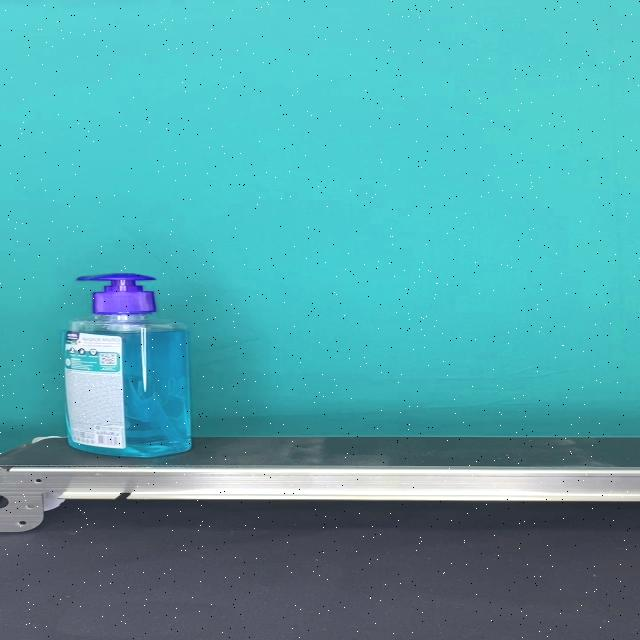Bottle: (62, 274, 192, 458)
Cap: (76, 274, 157, 315)
